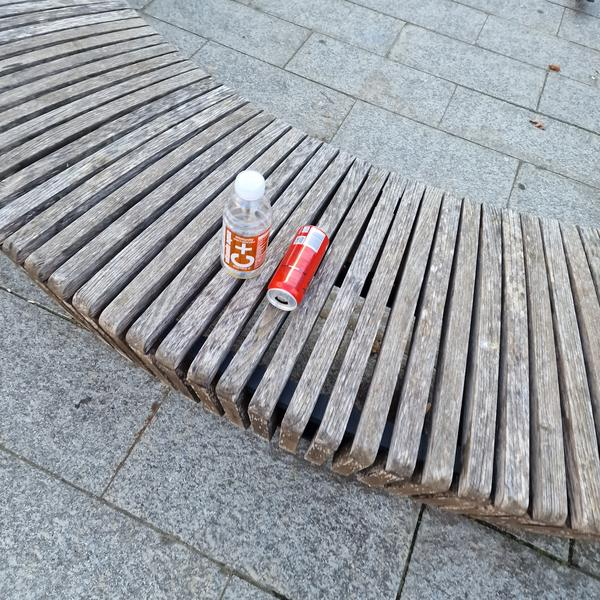can: (261, 218, 333, 316)
plastic_bottle: (219, 167, 276, 282)
